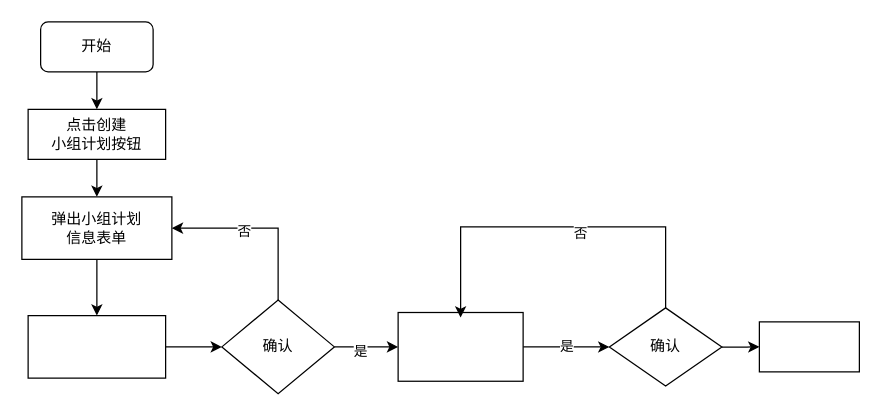
Some shapes in this 881 by 416 pixel diagram are drawn without their labels. Each missing label, with the centre of its shape:
分享成功: the point at 808,346
填写小组计划 计划类型 打卡天数: the point at 96,346
选择分享 至哪个小组: the point at 460,346
